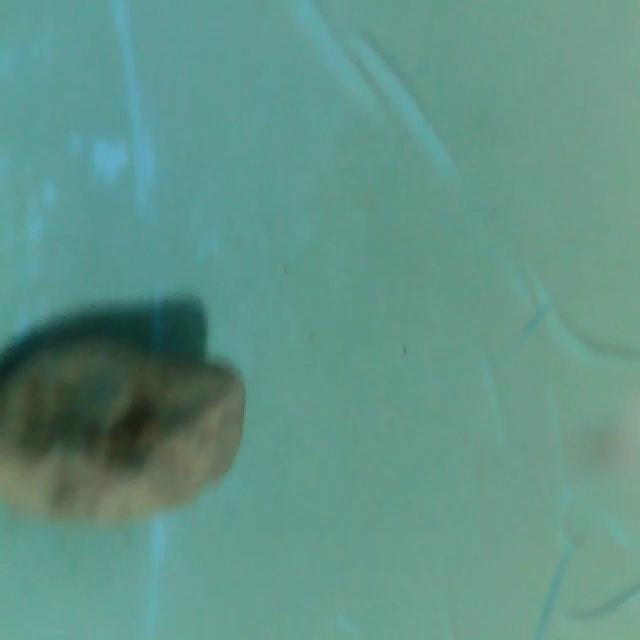rock: (0, 331, 257, 537)
